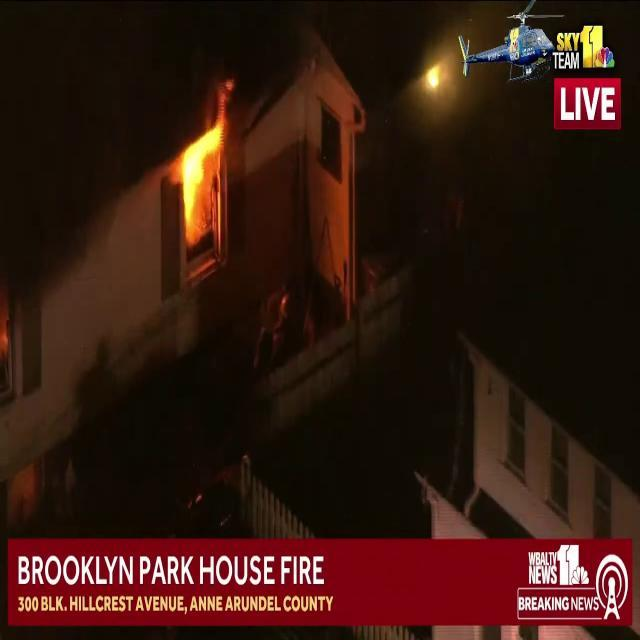Fire: (170, 78, 234, 248)
